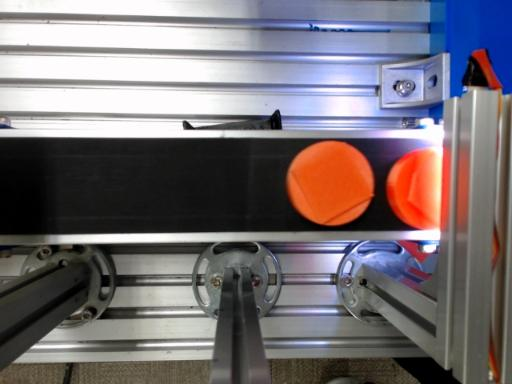Orange_Waper: (286, 141, 374, 226), (386, 147, 442, 229)
